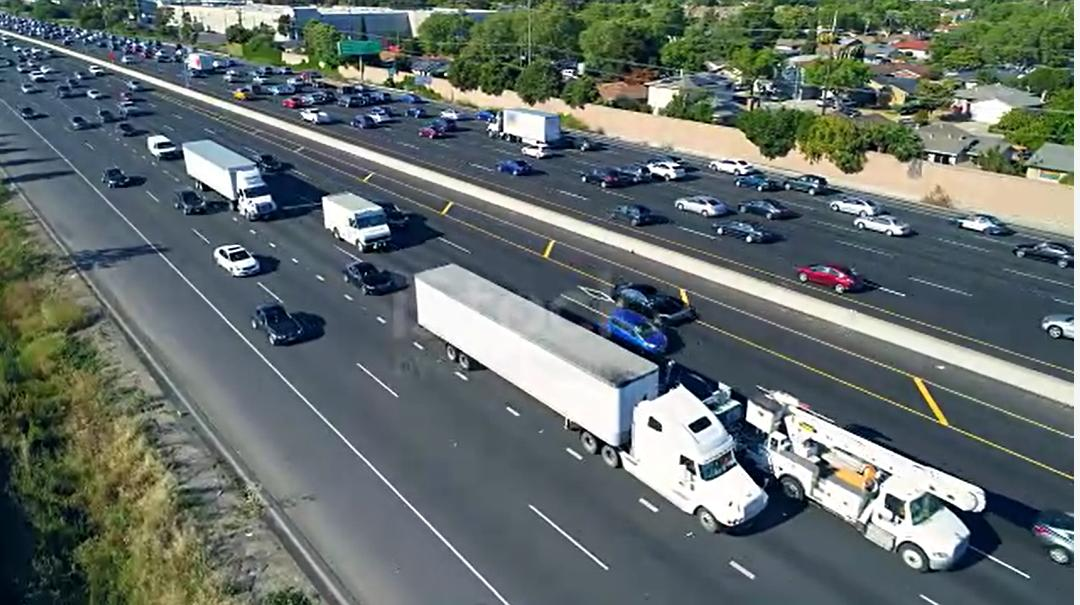car: (606, 267, 708, 350), (321, 184, 402, 259), (237, 289, 320, 362), (783, 256, 879, 304), (601, 304, 678, 360), (707, 207, 781, 260), (206, 229, 263, 290), (846, 206, 916, 244), (1012, 235, 1080, 271), (939, 211, 1017, 241), (341, 257, 396, 297), (822, 191, 882, 226), (410, 115, 461, 154), (733, 195, 797, 225), (675, 191, 736, 219), (783, 169, 835, 200), (732, 165, 782, 195), (581, 164, 624, 196), (618, 199, 657, 230), (651, 159, 688, 187), (495, 155, 538, 179), (710, 155, 750, 180), (517, 139, 557, 164), (625, 161, 658, 188)
truck: (412, 247, 802, 564), (733, 379, 1013, 580), (181, 132, 293, 232), (483, 105, 571, 152)
